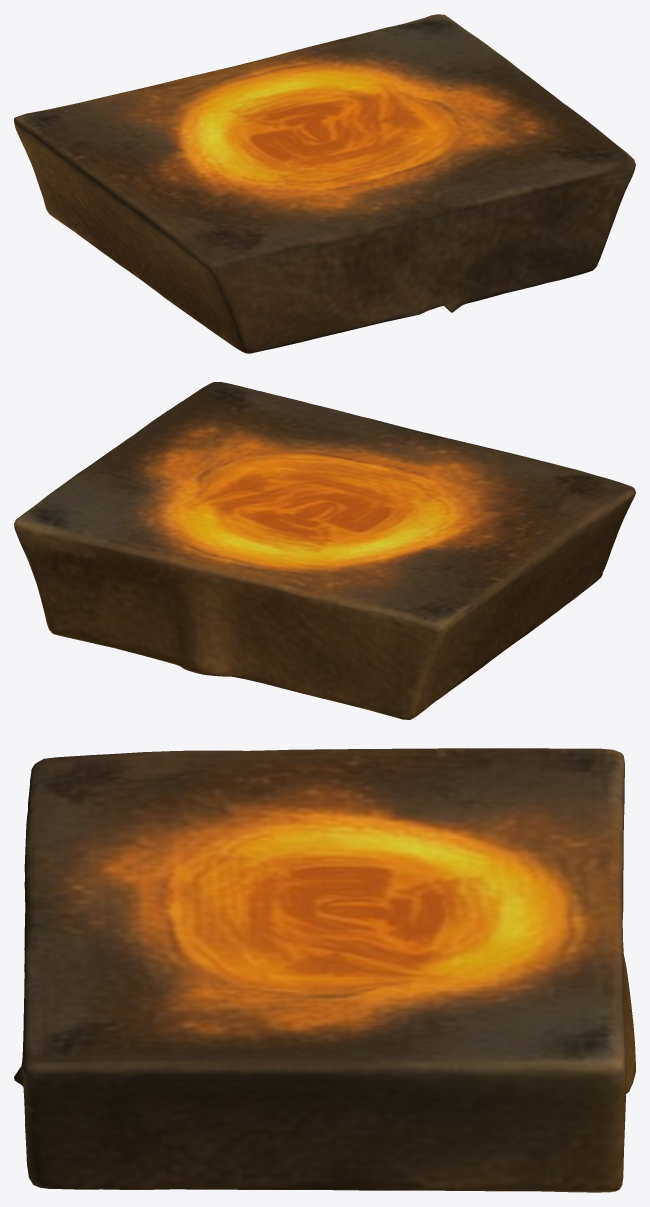
The model's file is rf_keyed_thermic.glb.
3 views of the same model, one above another, from view 1: azimuth 30°, elevation 25°; view 2: azimuth 150°, elevation 25°; view 3: azimuth 270°, elevation 25° (orthographic). The views are drawn at different scales.
Parts seen in each view (by area): view 1: geometry_0; view 2: geometry_0; view 3: geometry_0.
Boxes of the visible parts, x1,y1,x2,y2 form: geometry_0: (14, 14, 635, 353); geometry_0: (14, 382, 635, 719); geometry_0: (14, 748, 635, 1192).
Size of the model in its own units: 0.5679 by 0.1338 by 0.4711.
Materials: 1 (1 with a texture image).
